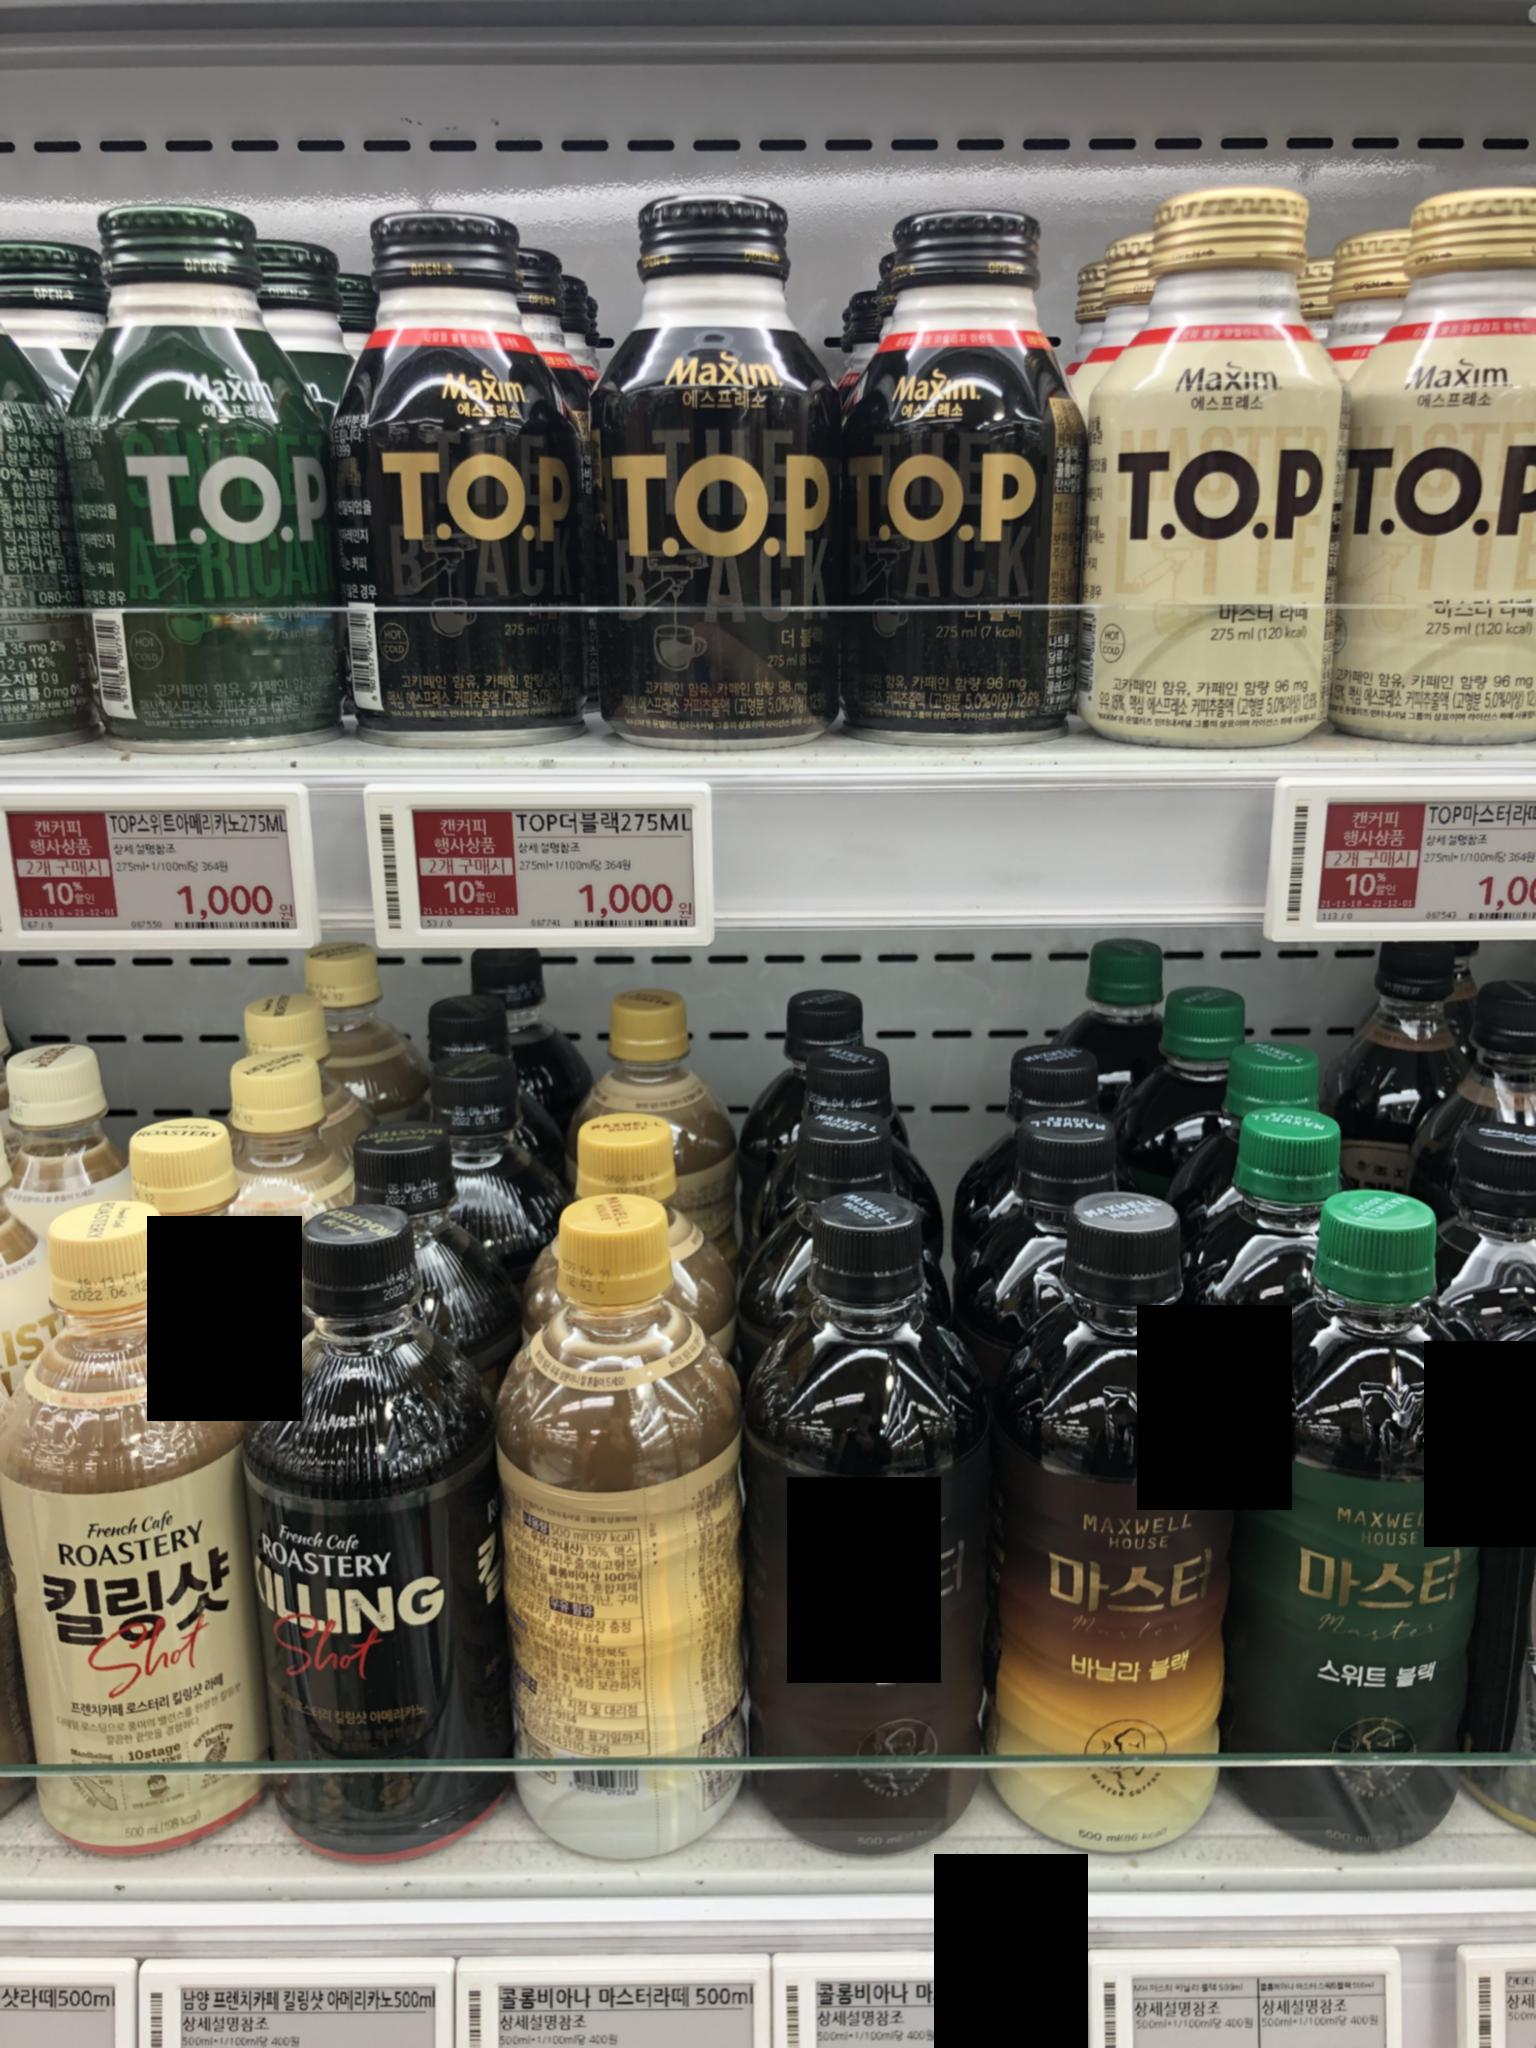TOP_black: (311, 203, 589, 740), (586, 187, 842, 750), (829, 213, 1047, 703)
